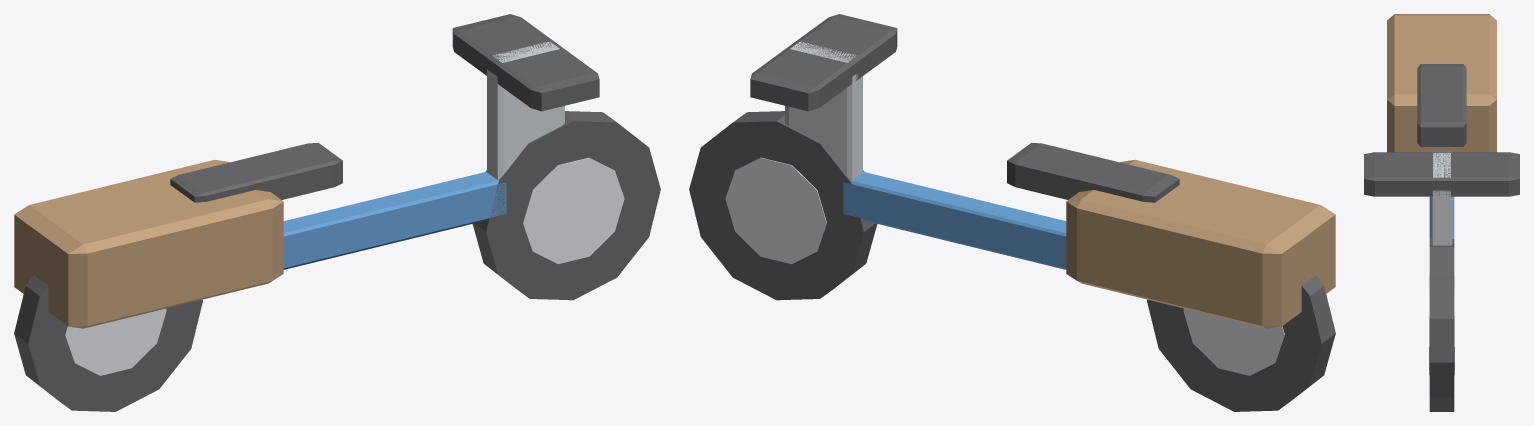
The model's file is b03_front_box_cargo_bicycle.glb.
3 views of the same model, side by side, from view 1: azimuth 30°, elevation 25°; view 2: azimuth 150°, elevation 25°; view 3: azimuth 270°, elevation 25° (orthographic). The views are drawn at different scales.
Visible parts, largest first — view 1: b03_front_box_cargo_bicycle; view 2: b03_front_box_cargo_bicycle; view 3: b03_front_box_cargo_bicycle.
Boxes of the visible parts, box(x1,y1,x2,y2) form: b03_front_box_cargo_bicycle: box(14, 14, 660, 411); b03_front_box_cargo_bicycle: box(689, 14, 1335, 411); b03_front_box_cargo_bicycle: box(1364, 14, 1519, 411).
Bounding box in the file's own units: 2.85 × 1.09 × 0.695.
